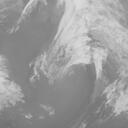cyclone: (29, 43, 80, 85)
